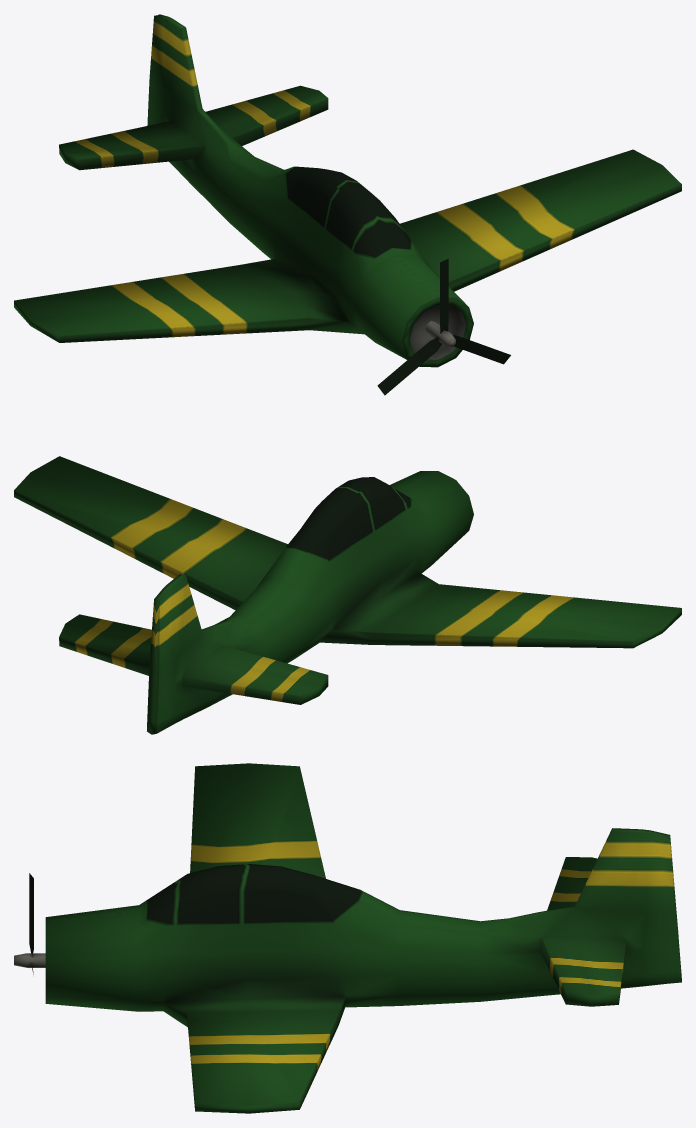
The model's file is Aeroplane by Gilang Romadhan - 9VeIc0cybp4.glb.
The picture shows the model from 3 angles, top to bottom: view 1: azimuth 30°, elevation 25°; view 2: azimuth 150°, elevation 25°; view 3: azimuth 270°, elevation 25°; orthographic projection. The views are drawn at different scales.
Visible parts, largest first — view 1: Cylinder.001_Cylinder.002; view 2: Cylinder.001_Cylinder.002; view 3: Cylinder.001_Cylinder.002.
Boxes of the visible parts, left/top/right/bottom form: Cylinder.001_Cylinder.002: left=14, top=14, right=681, bottom=395; Cylinder.001_Cylinder.002: left=14, top=456, right=681, bottom=734; Cylinder.001_Cylinder.002: left=14, top=763, right=681, bottom=1113.
Size of the model in its own units: 7.83 by 1.91 by 6.45.
Materials: 1 (1 with a texture image).
